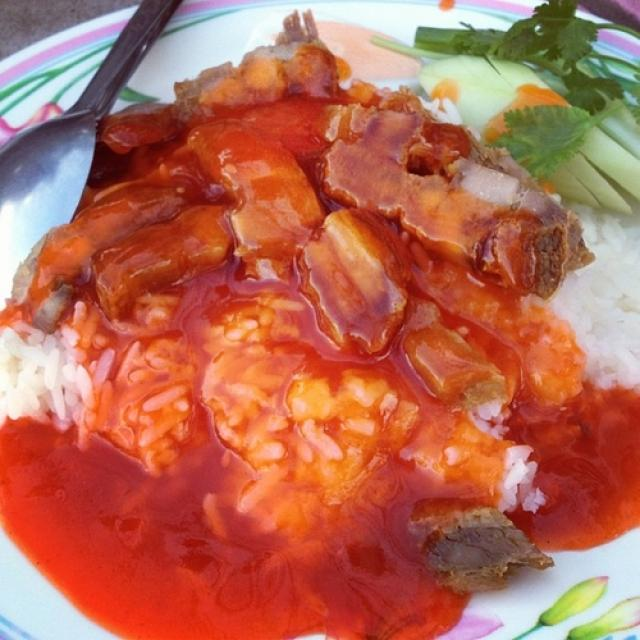猪肉菜式: (5, 21, 621, 624)
